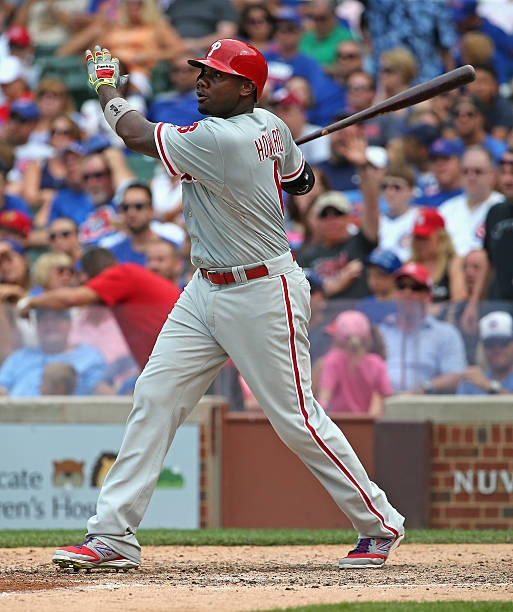bita: (293, 62, 476, 149)
